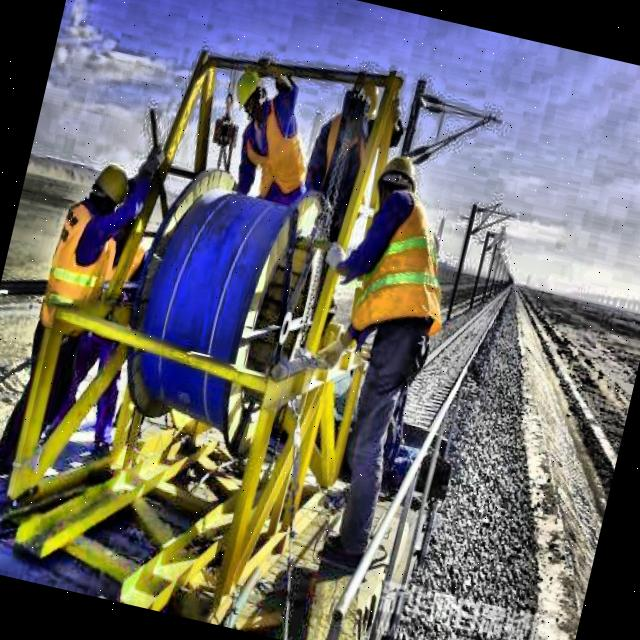helmet: (336, 62, 392, 136), (364, 146, 424, 212), (78, 158, 134, 226), (220, 55, 272, 122)
